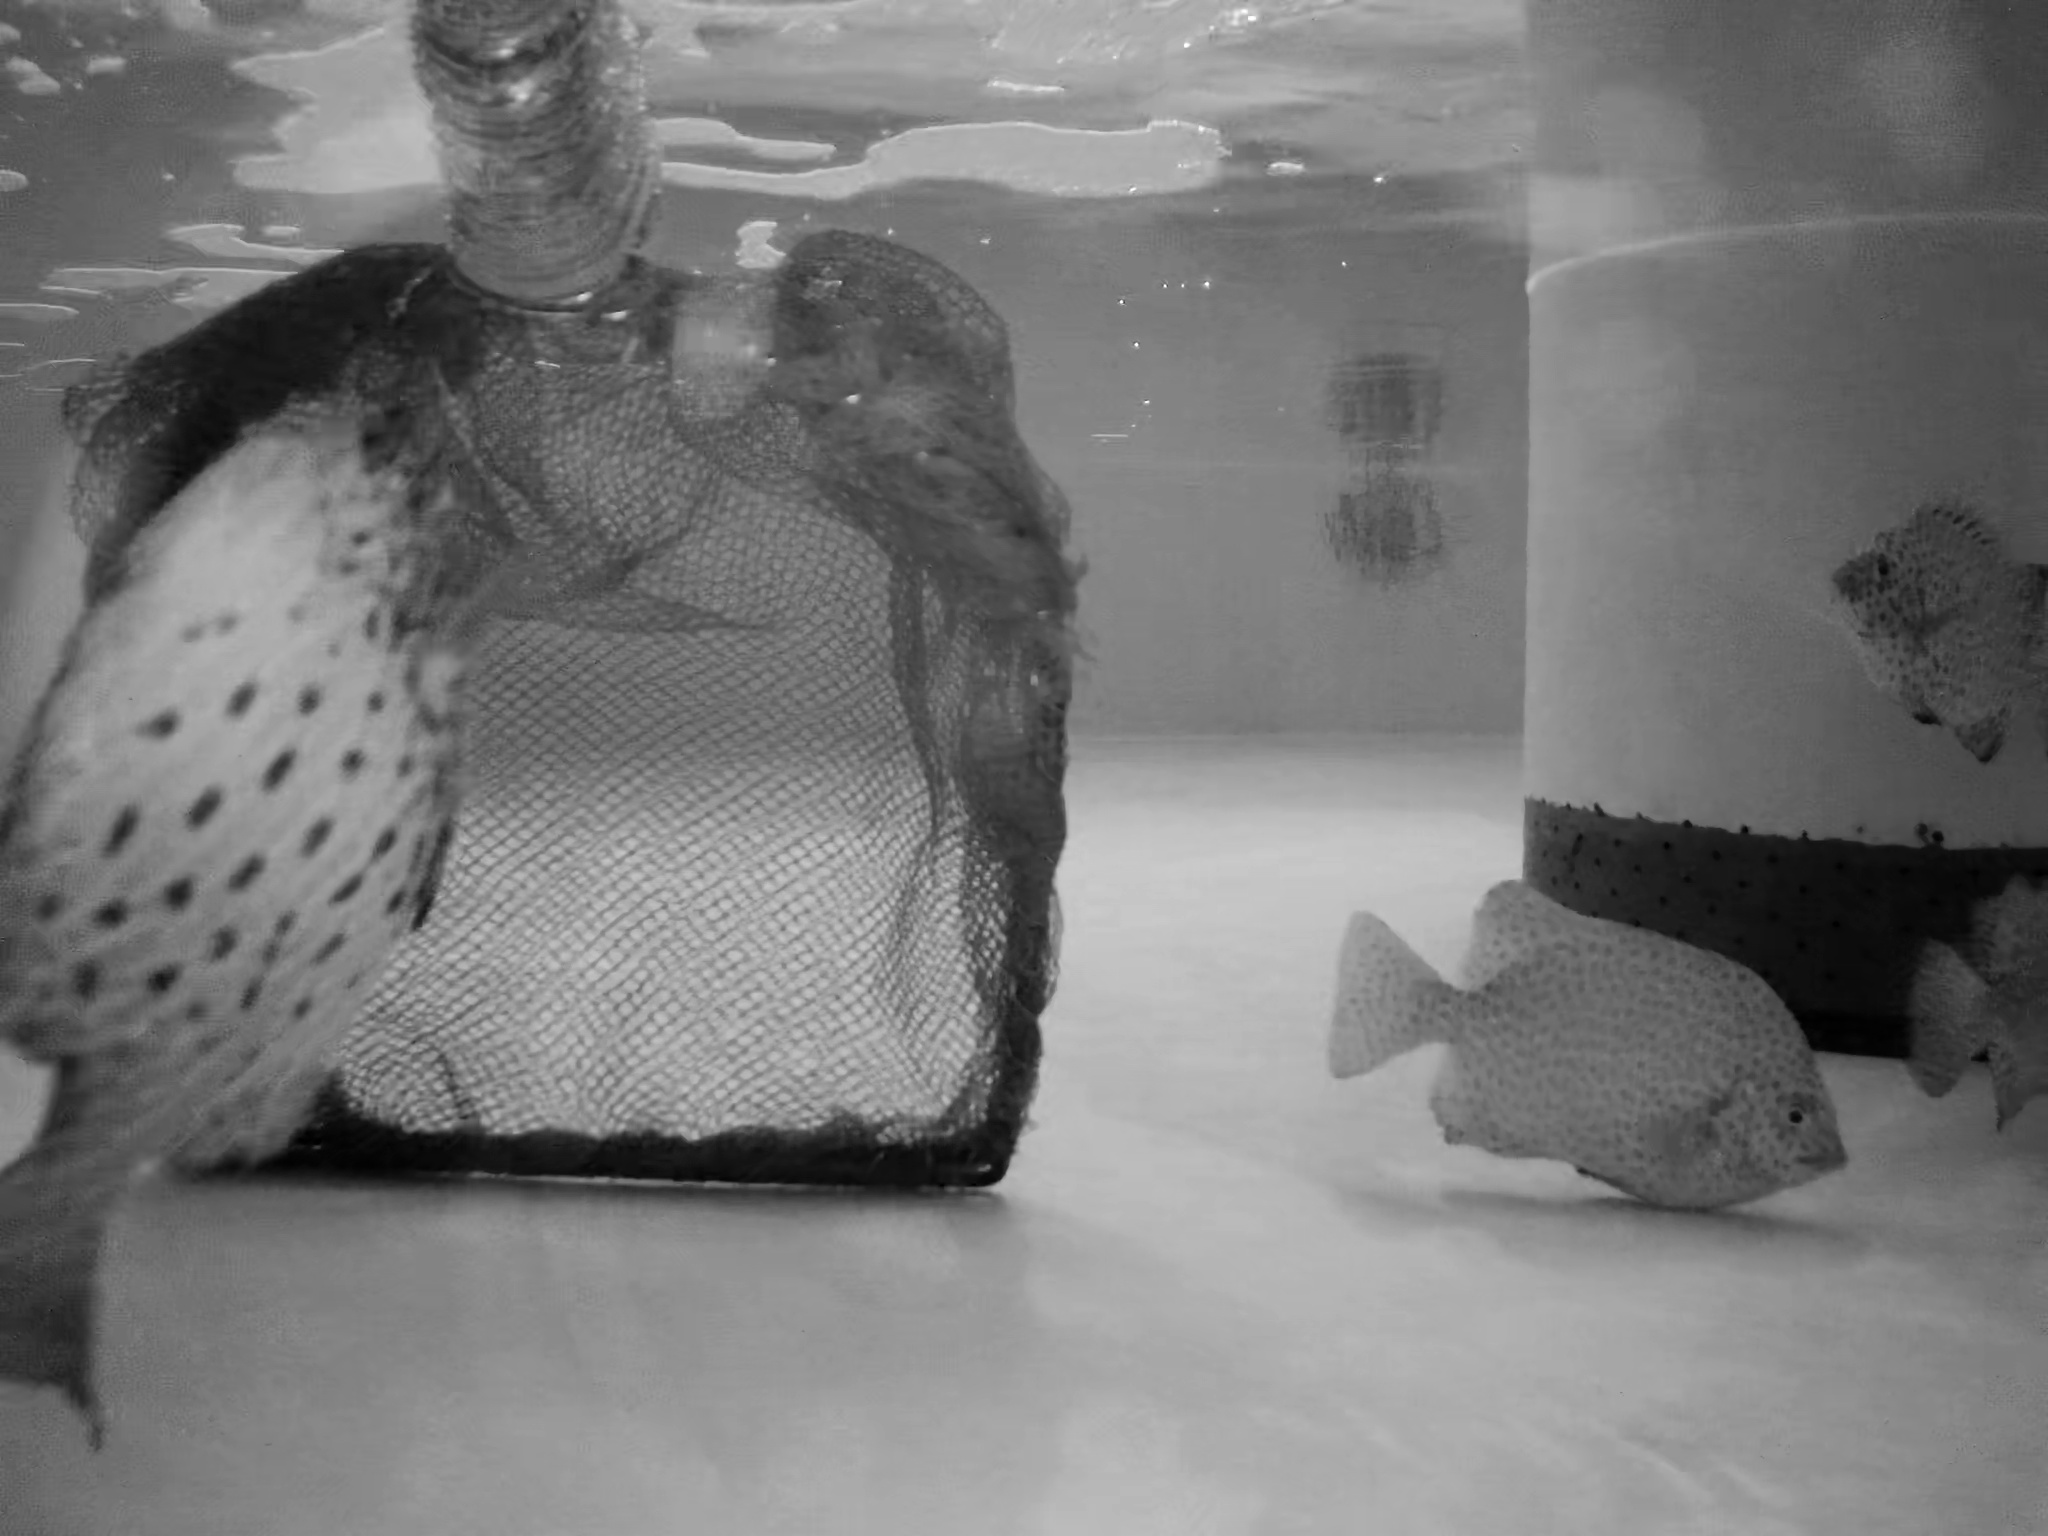fish: (2, 357, 471, 1438), (1324, 881, 1853, 1217), (1825, 490, 2048, 752), (1903, 879, 2048, 1133)
